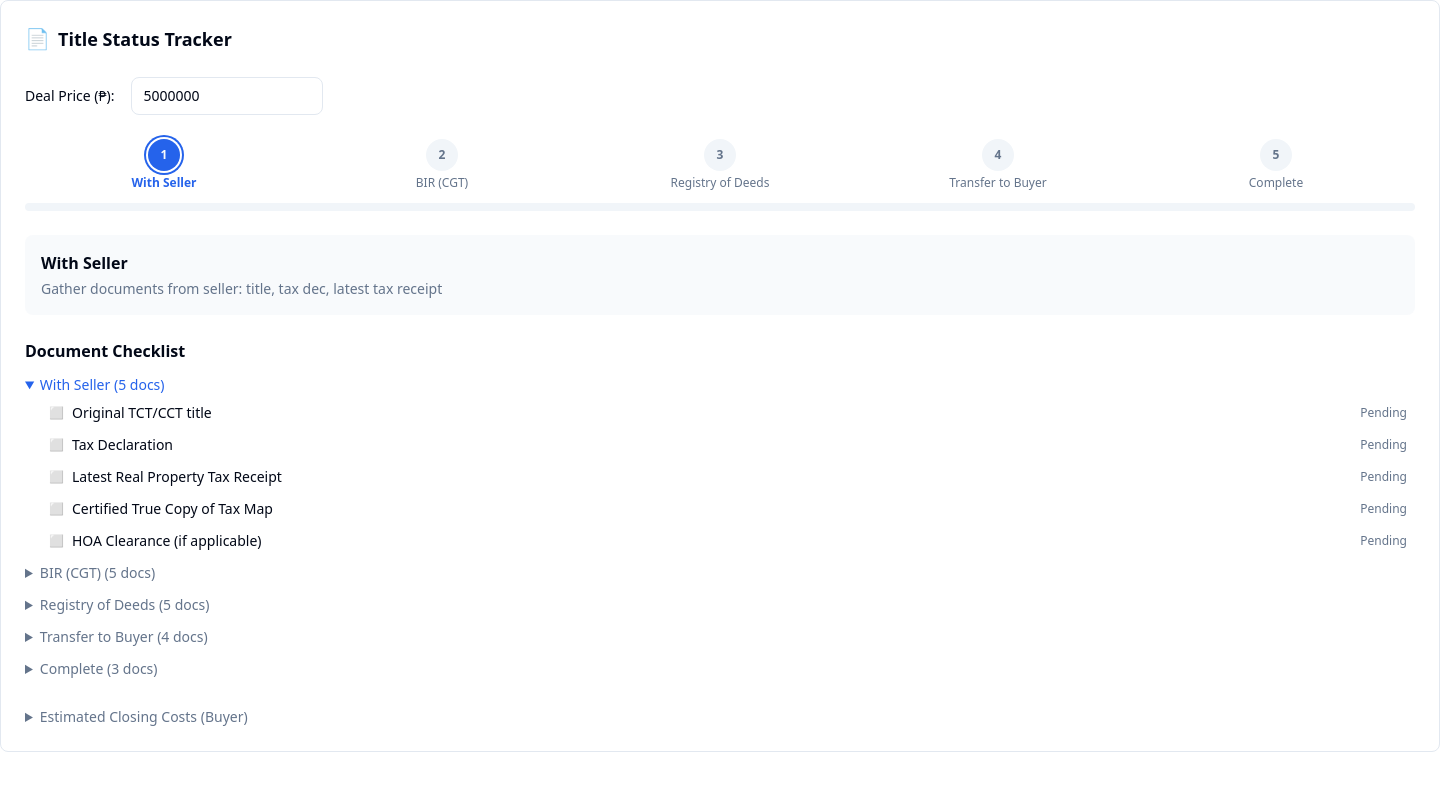
it: TitleStatusTracker › shows documents for Transfer stage
Click the button "4": x=998, y=155 x1=982 y1=139 x2=1014 y2=171
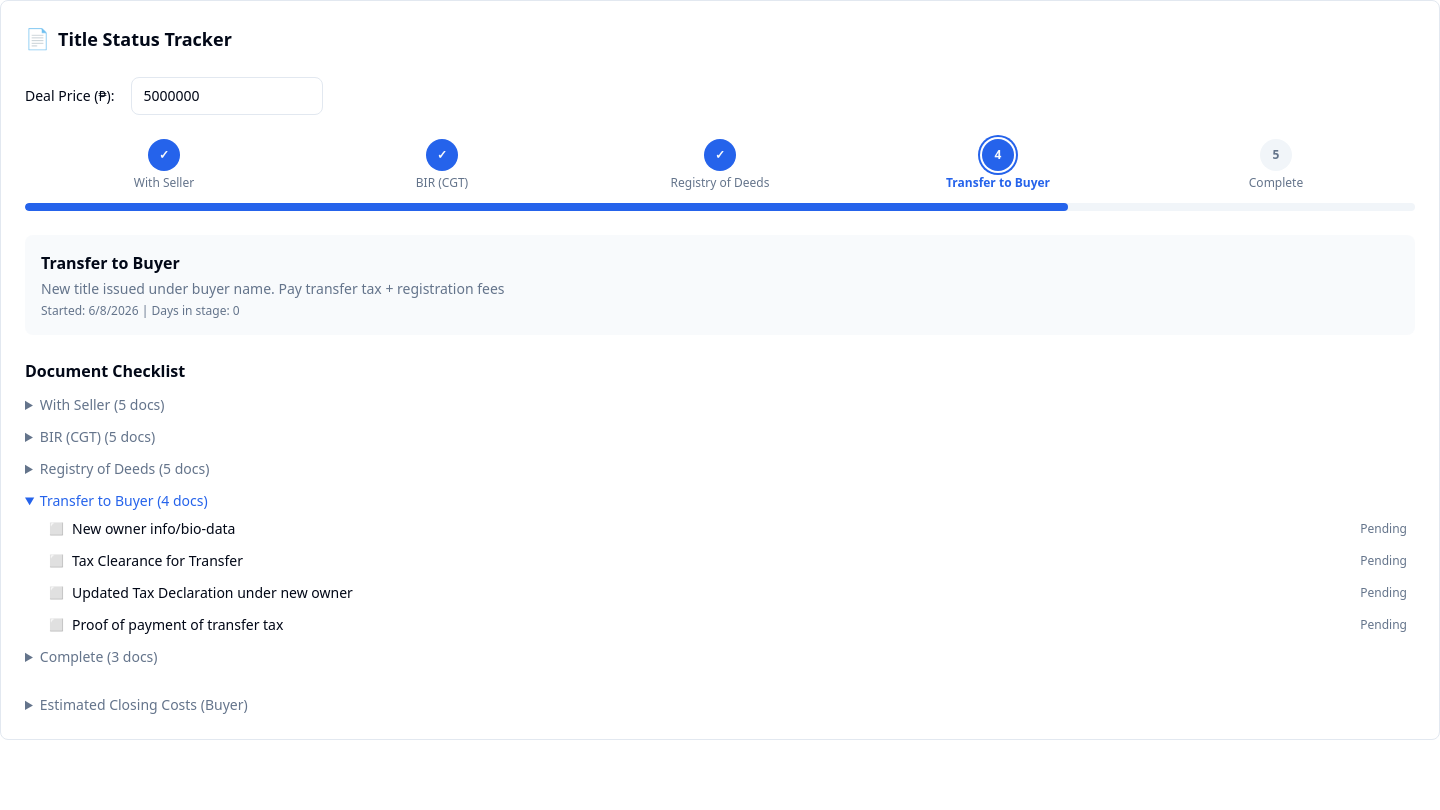
Check: the text "New owner info/bio-data" is shown, box x1=72 y1=519 x2=235 y2=538
